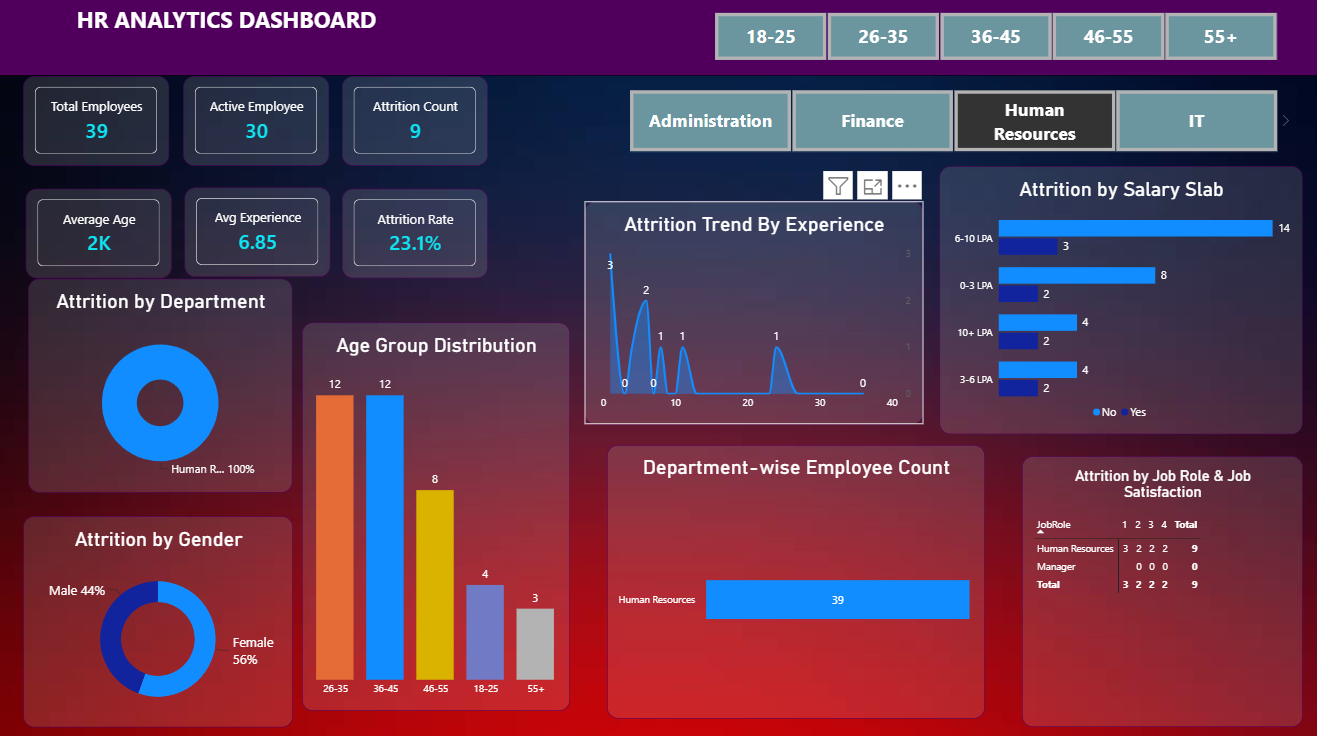

What the dashboard file says about the page in this screenshot:
{"tool":"powerbi","page":{"name":"Page 1","canvas":[1920,1080],"ordinal":0},"visuals":[{"type":"textbox","box":[0,0,1920,116.7],"z":0},{"type":"cardVisual","fields":{"Data":["CountNonNull(HR_Analytics-4.EmpID)"]},"box":[38.9,118.5,211.1,129.6],"z":1000},{"type":"cardVisual","fields":{"Data":["Sum(HR_Analytics-4.EmployeeCount)"]},"box":[270.4,118.5,211.1,129.6],"z":2000},{"type":"cardVisual","fields":{"Data":["Sum(HR_Analytics-4.AttritionCount)"]},"box":[500,118.5,211.1,129.6],"z":3000},{"type":"cardVisual","fields":{"Data":["HR_Analytics-4.Attrition Rate"]},"box":[500,280.4,211.1,129.6],"z":4000},{"type":"cardVisual","fields":{"Data":["Sum(HR_Analytics-4.Age)"]},"box":[41.2,280.4,211.1,129.6],"z":5000},{"type":"cardVisual","fields":{"Data":["Avg(HR_Analytics-4.YearsatCompany)"]},"box":[270.6,278.4,211.1,129.6],"z":6000},{"type":"donutChart","title":"Attrition by Department","fields":{"Category":["HR_Analytics-4.Department"],"Y":["Sum(HR_Analytics-4.AttritionCount)"]},"box":[46,410,382.4,309.8],"z":7000},{"type":"clusteredBarChart","title":"Attrition by Salary Slab","fields":{"Category":["HR_Analytics-4.SalarySlab"],"Series":["HR_Analytics-4.Attrition"],"Y":["CountNonNull(HR_Analytics-4.EmpID)"]},"box":[1364.7,247.1,525.5,388.2],"z":8000},{"type":"pivotTable","title":"Attrition by Job Role & Job Satisfaction","fields":{"Columns":["HR_Analytics-4.JobSatisfaction"],"Rows":["HR_Analytics-4.JobRole"],"Values":["Sum(HR_Analytics-4.AttritionCount)"]},"box":[1484.3,668.6,406,392],"z":9000},{"type":"columnChart","title":"Age Group Distribution","fields":{"Category":["HR_Analytics-4.AgeGroup"],"Y":["Sum(HR_Analytics-4.EmployeeCount)"]},"box":[442,474,388,562],"z":10000},{"type":"pieChart","title":"Attrition by Gender","fields":{"Category":["HR_Analytics-4.Gender"],"Y":["Sum(HR_Analytics-4.AttritionCount)"]},"box":[38,754,390.2,305.9],"z":11000},{"type":"areaChart","title":"Attrition Trend By Experience","fields":{"Category":["HR_Analytics-4.TotalExperience(Years)"],"Y2":["Sum(HR_Analytics-4.AttritionCount)"]},"box":[851,298,490.2,323.5],"z":12000},{"type":"funnel","title":"Department-wise Employee Count","fields":{"Category":["HR_Analytics-4.Department"],"Y":["CountNonNull(HR_Analytics-4.EmpID)"]},"box":[882.4,651,547.1,396.1],"z":13000},{"type":"slicer","fields":{"Values":["HR_Analytics-4.Department"]},"box":[896.1,135.3,976.5,92.2],"z":14000},{"type":"slicer","fields":{"Values":["HR_Analytics-4.AgeGroup"]},"box":[1019.6,23.5,852.9,72.5],"z":15000}]}

Visuals, with their boxes in screenshot pixels (x1, y1, x2, y2), scaled from the page's 1920x1080 canvas onto the 1317x736 screenshot:
textbox: detection(0, 0, 1316, 80)
cardVisual - CountNonNull(HR_Analytics-4.EmpID): detection(27, 81, 171, 169)
cardVisual - Sum(HR_Analytics-4.EmployeeCount): detection(185, 81, 330, 169)
cardVisual - Sum(HR_Analytics-4.AttritionCount): detection(343, 81, 488, 169)
cardVisual - HR_Analytics-4.Attrition Rate: detection(343, 191, 488, 279)
cardVisual - Sum(HR_Analytics-4.Age): detection(28, 191, 173, 279)
cardVisual - Avg(HR_Analytics-4.YearsatCompany): detection(186, 190, 330, 278)
"Attrition by Department" donutChart: detection(32, 279, 294, 491)
"Attrition by Salary Slab" clusteredBarChart: detection(936, 168, 1297, 433)
"Attrition by Job Role & Job Satisfaction" pivotTable: detection(1018, 456, 1297, 723)
"Age Group Distribution" columnChart: detection(303, 323, 569, 706)
"Attrition by Gender" pieChart: detection(26, 514, 294, 722)
"Attrition Trend By Experience" areaChart: detection(584, 203, 920, 424)
"Department-wise Employee Count" funnel: detection(605, 444, 981, 714)
slicer - HR_Analytics-4.Department: detection(615, 92, 1284, 155)
slicer - HR_Analytics-4.AgeGroup: detection(699, 16, 1284, 65)
